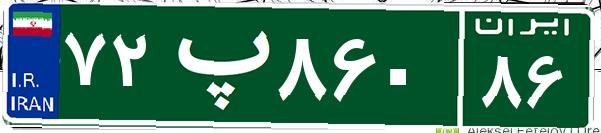0: (385, 28, 445, 110)
2: (110, 28, 158, 105)
6: (330, 28, 385, 110), (525, 38, 570, 115)
7: (57, 26, 110, 107)
8: (273, 28, 330, 110), (475, 38, 525, 113)
پ: (158, 15, 273, 115)
